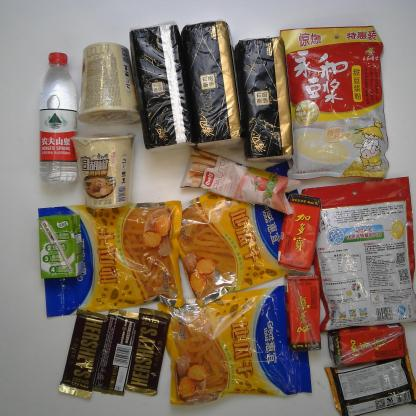Chocolate: (58, 306, 114, 400), (119, 305, 174, 397), (94, 306, 143, 397)
Dessert: (177, 144, 297, 214), (321, 354, 415, 414)
Dried Fruit: (168, 160, 320, 308), (156, 283, 313, 406), (37, 198, 184, 320)
Drink: (37, 50, 80, 186), (327, 319, 409, 366), (276, 192, 323, 272), (282, 268, 323, 353)
Instant Drink: (300, 174, 416, 332), (278, 24, 390, 181)
Instant Noodles: (75, 40, 144, 127), (65, 131, 138, 211)
Milk: (37, 214, 85, 280)
Tissue: (127, 18, 200, 152), (177, 18, 243, 151), (231, 34, 296, 164)
